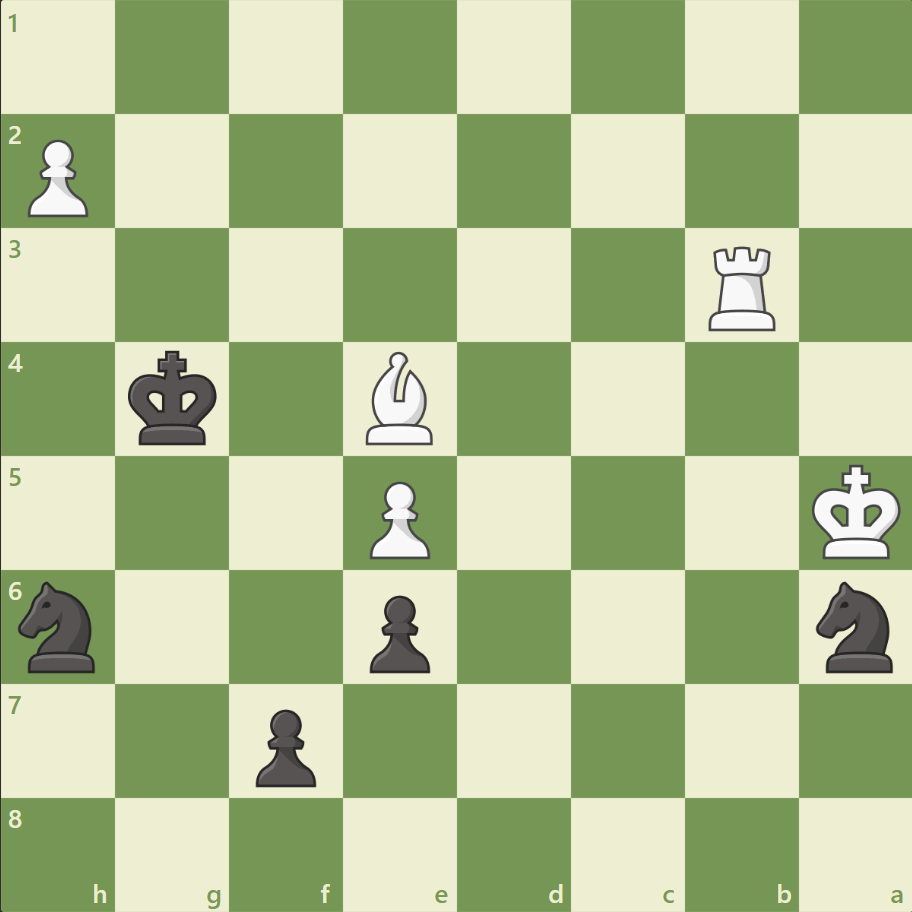B: (358, 347, 442, 449)
K: (806, 458, 906, 566)
P: (20, 132, 95, 223), (361, 473, 435, 564)
R: (700, 239, 783, 336)
k: (124, 344, 224, 452)
n: (806, 575, 903, 677), (11, 575, 108, 677)
p: (247, 700, 322, 791), (361, 586, 435, 677)
